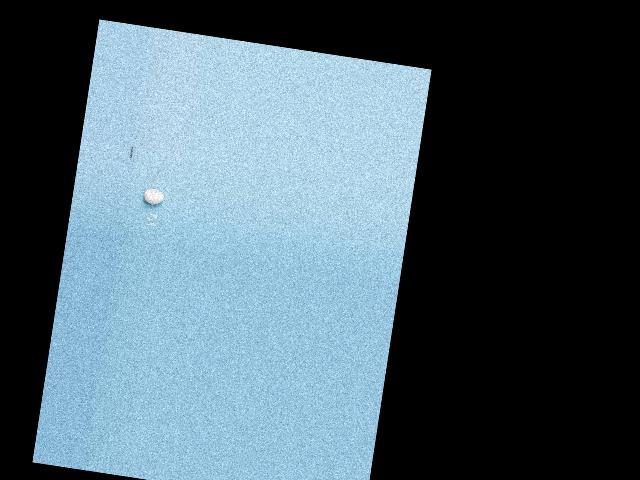egg: (142, 187, 164, 205)
